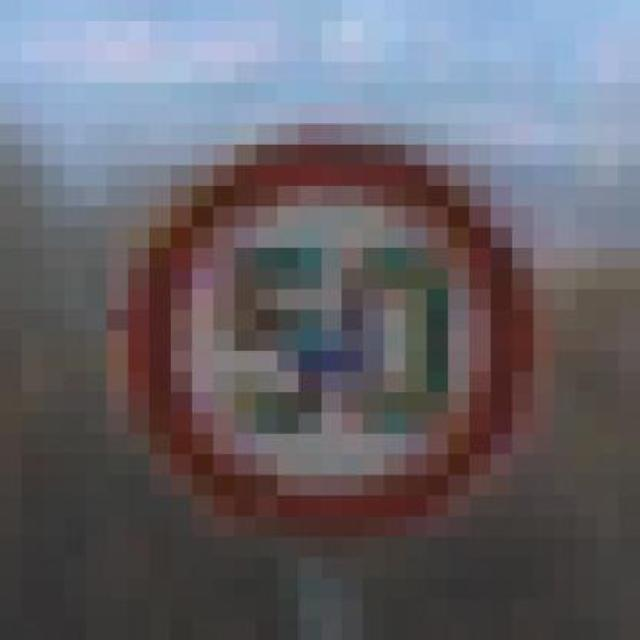50 mph speed limit: (107, 82, 555, 558)
